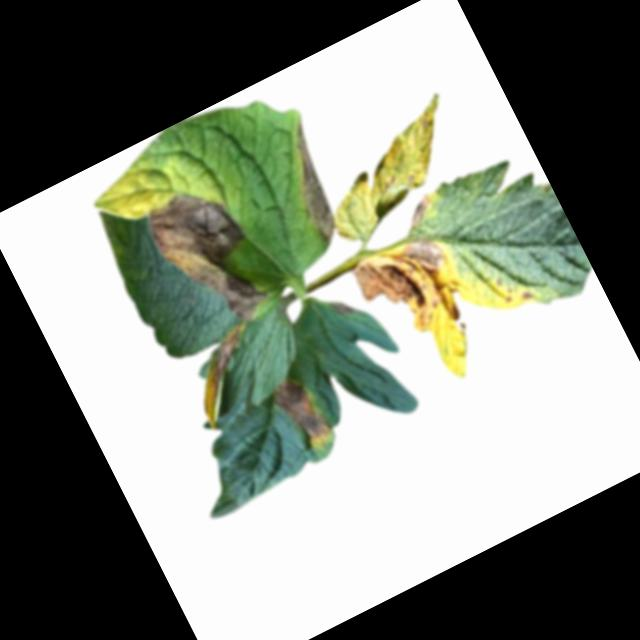Early_blight: (140, 174, 283, 344), (348, 226, 477, 358), (173, 325, 280, 432), (270, 122, 358, 244), (270, 371, 340, 457), (399, 189, 442, 230), (331, 293, 360, 321), (518, 283, 539, 305)
